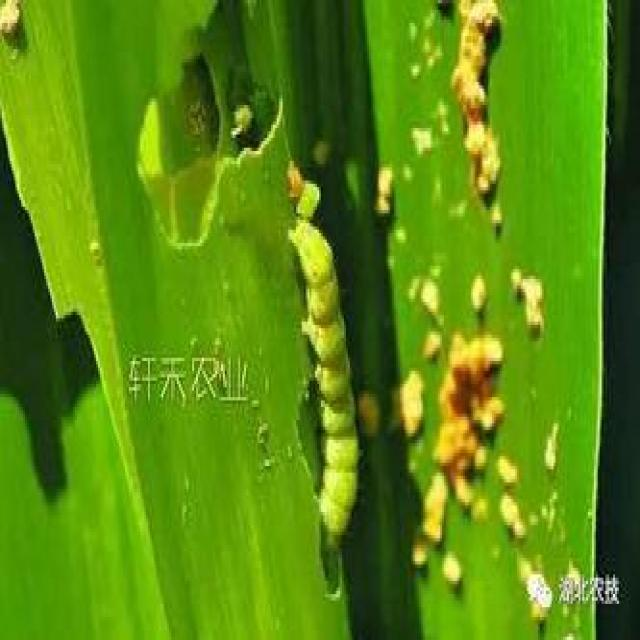BeetArmyWorm-Larva-: (286, 210, 372, 557)
